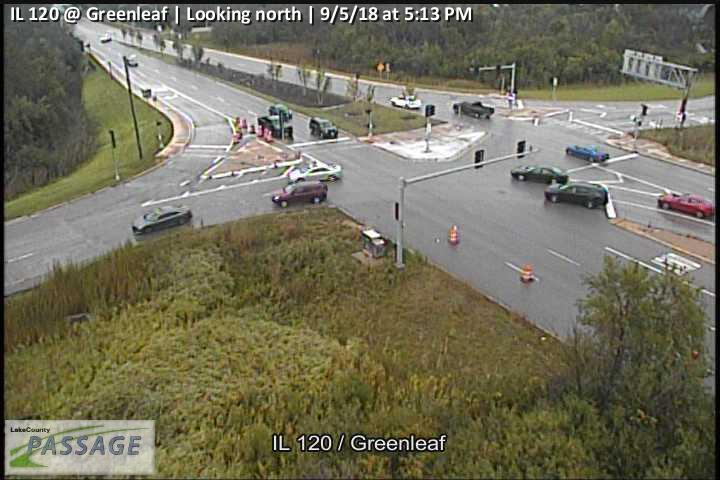SUV: (543, 179, 608, 210), (271, 180, 328, 207), (310, 115, 339, 139), (389, 92, 422, 109), (269, 102, 293, 120)
Sedan: (132, 203, 192, 235), (657, 191, 717, 220), (286, 162, 342, 183), (511, 164, 569, 184), (257, 114, 293, 138), (566, 143, 609, 162)
Truck: (453, 100, 495, 120)
